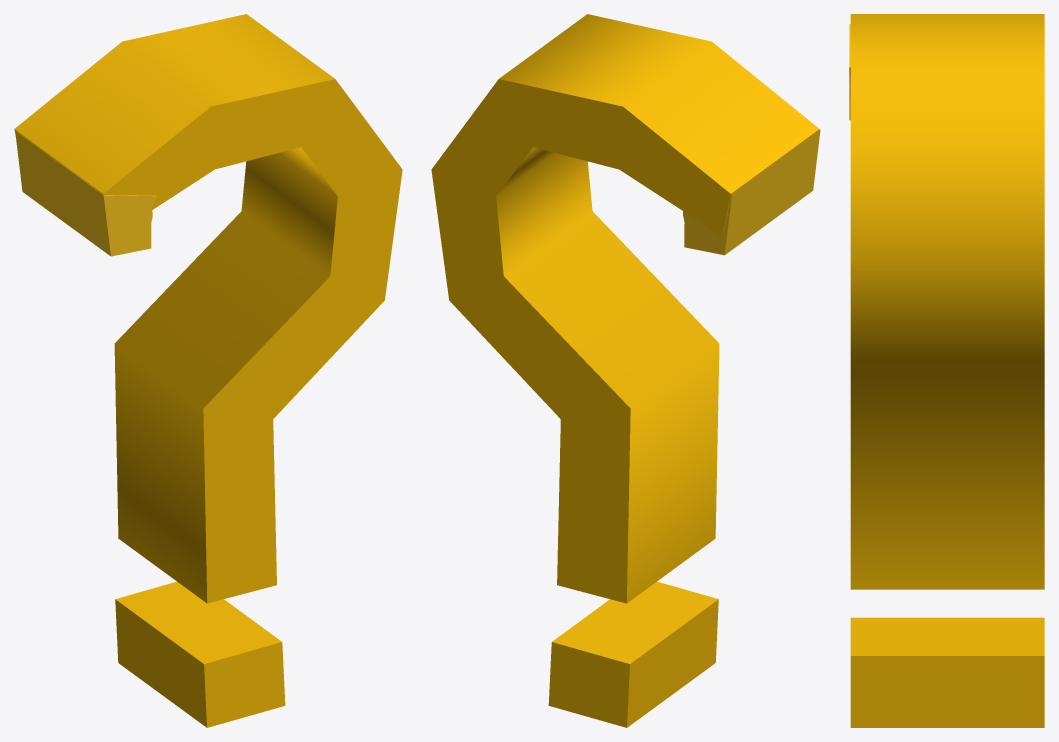
Rendered from Question.fbx.
The picture shows the model from 3 angles, left to right: view 1: azimuth 30°, elevation 25°; view 2: azimuth 150°, elevation 25°; view 3: azimuth 270°, elevation 25°; orthographic projection. The views are drawn at different scales.
Visible parts, largest first — view 1: node_id5, node_id7, root; view 2: node_id5, node_id7, root; view 3: node_id5, node_id7.
Boxes of the visible parts, x1,y1,x2,y2 form: node_id5: (14,14,402,603); node_id7: (115,581,285,727); root: (15,130,156,256); node_id5: (431,14,819,603); node_id7: (548,581,718,727); root: (683,129,820,255); node_id5: (850,14,1044,589); node_id7: (850,617,1044,727).
Bounding box in the file's own units: 0.2588 × 0.512 × 0.1338.
Materials: 3 (3 with a texture image).
